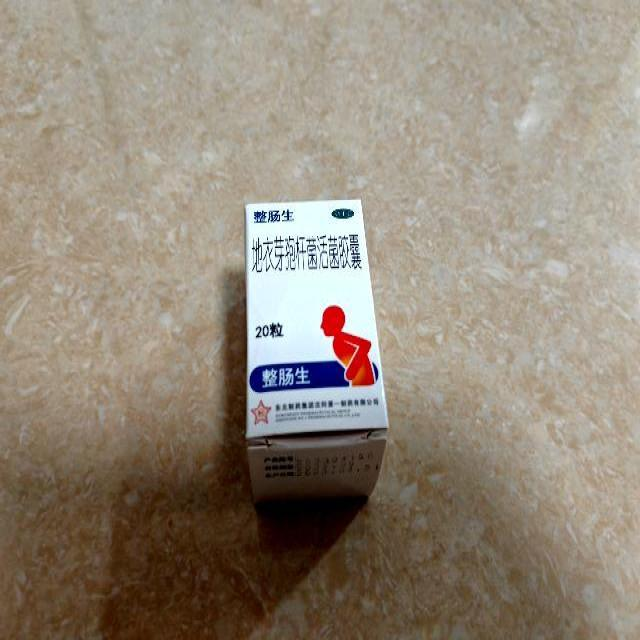box: (244, 197, 388, 504)
